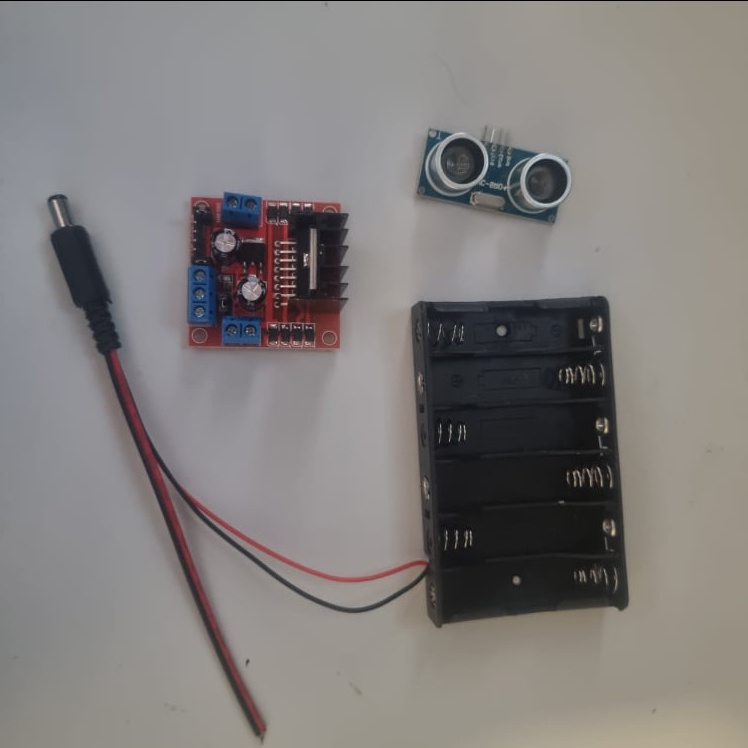BATTERY BOX: (411, 294, 629, 629)
MOTOR: (186, 189, 347, 350)
SENSOR: (413, 117, 572, 227)
